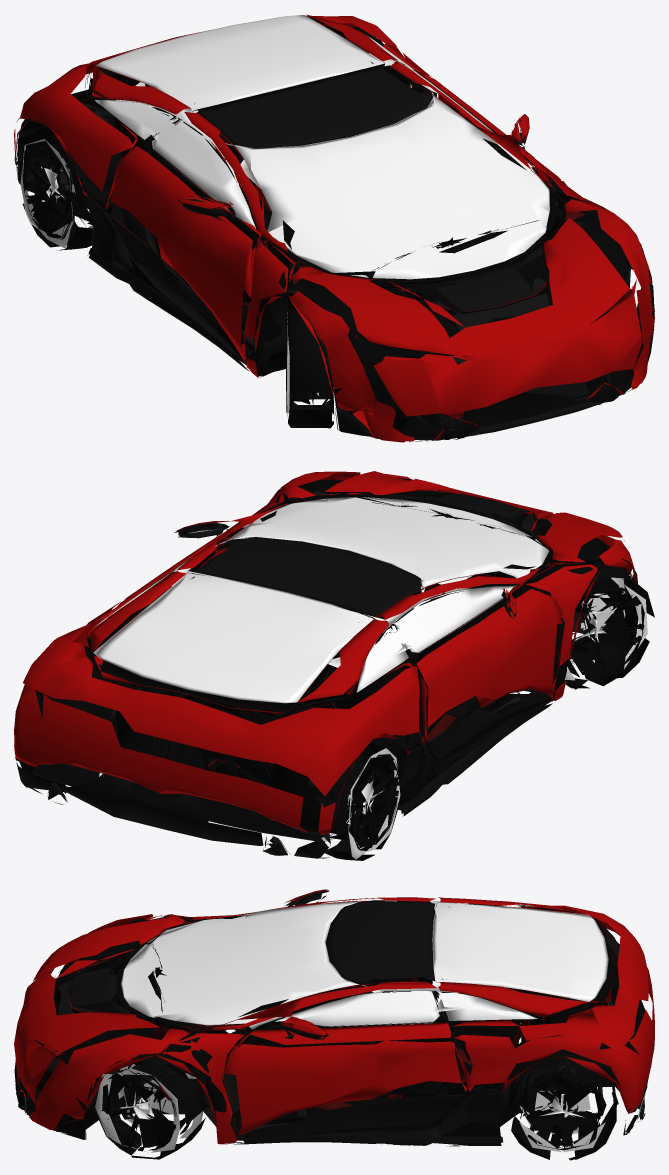
The model's file is U_CarConcept_LOD2.obj.
3 renders of one model, top to bottom at view 1: azimuth 30°, elevation 25°; view 2: azimuth 150°, elevation 25°; view 3: azimuth 270°, elevation 25°, orthographic. The views are drawn at different scales.
Parts seen in each view (by area): view 1: U_CarConcept_Body_m10, U_CarConcept_Body_m1, U_CarConcept_Body_m9, U_CarConcept_Body_m2, U_CarConcept_Body_m0, U_CarConcept_Body_m21, U_CarConcept_Body_m3, U_CarConcept_Wheel_FR_Tyre_m18, U_CarConcept_Wheel_RR_m20, U_CarConcept_Wheel_RR_Tyre_m18, U_CarConcept_Wheel_RR_Tyre_m17, U_CarConcept_Wheel_FR_m20; view 2: U_CarConcept_Body_m10, U_CarConcept_Body_m1, U_CarConcept_Body_m9, U_CarConcept_Body_m2, U_CarConcept_Wheel_FR_m20, U_CarConcept_Body_m3, U_CarConcept_Body_m21, U_CarConcept_Wheel_RR_m20, U_CarConcept_Body_m0, U_CarConcept_Wheel_RR_Tyre_m18, U_CarConcept_Wheel_FR_Tyre_m18, U_CarConcept_Wheel_RR_Tyre_m17 (+3 smaller); view 3: U_CarConcept_Body_m10, U_CarConcept_Body_m1, U_CarConcept_Body_m9, U_CarConcept_Body_m2, U_CarConcept_Body_m0, U_CarConcept_Wheel_RL_m20, U_CarConcept_Wheel_FL_m20, U_CarConcept_Body_m3, U_CarConcept_Body_m21, U_CarConcept_Wheel_RL_Tyre_m18, U_CarConcept_Wheel_FL_Tyre_m18, U_CarConcept_Wheel_FL_Tyre_m17 (+4 smaller).
Part boxes in pixels (bbox=[...]): U_CarConcept_Body_m10: bbox=[14, 14, 654, 442]; U_CarConcept_Body_m1: bbox=[95, 15, 549, 279]; U_CarConcept_Body_m9: bbox=[16, 63, 654, 436]; U_CarConcept_Body_m2: bbox=[17, 16, 654, 441]; U_CarConcept_Body_m0: bbox=[17, 86, 630, 440]; U_CarConcept_Body_m21: bbox=[87, 174, 590, 374]; U_CarConcept_Body_m3: bbox=[16, 26, 548, 319]; U_CarConcept_Wheel_FR_Tyre_m18: bbox=[288, 295, 333, 428]; U_CarConcept_Wheel_RR_m20: bbox=[22, 139, 92, 239]; U_CarConcept_Wheel_RR_Tyre_m18: bbox=[18, 124, 92, 250]; U_CarConcept_Wheel_RR_Tyre_m17: bbox=[20, 139, 92, 248]; U_CarConcept_Wheel_FR_m20: bbox=[286, 311, 333, 414]; U_CarConcept_Body_m10: bbox=[14, 471, 637, 834]; U_CarConcept_Body_m1: bbox=[93, 497, 548, 703]; U_CarConcept_Body_m9: bbox=[15, 490, 638, 858]; U_CarConcept_Body_m2: bbox=[33, 479, 637, 855]; U_CarConcept_Wheel_FR_m20: bbox=[567, 577, 644, 679]; U_CarConcept_Body_m3: bbox=[84, 525, 531, 826]; U_CarConcept_Body_m21: bbox=[135, 489, 599, 813]; U_CarConcept_Wheel_RR_m20: bbox=[324, 754, 399, 850]; U_CarConcept_Body_m0: bbox=[33, 488, 627, 855]; U_CarConcept_Wheel_RR_Tyre_m18: bbox=[325, 738, 403, 860]; U_CarConcept_Wheel_FR_Tyre_m18: bbox=[564, 558, 654, 689]; U_CarConcept_Wheel_RR_Tyre_m17: bbox=[321, 748, 400, 859]; U_CarConcept_Body_m10: bbox=[14, 889, 654, 1144]; U_CarConcept_Body_m1: bbox=[121, 899, 608, 1029]; U_CarConcept_Body_m9: bbox=[14, 889, 654, 1146]; U_CarConcept_Body_m2: bbox=[15, 900, 647, 1139]; U_CarConcept_Body_m0: bbox=[22, 930, 647, 1137]; U_CarConcept_Wheel_RL_m20: bbox=[520, 1066, 606, 1150]; U_CarConcept_Wheel_FL_m20: bbox=[101, 1061, 190, 1151]; U_CarConcept_Body_m3: bbox=[112, 903, 637, 1118]; U_CarConcept_Body_m21: bbox=[163, 915, 500, 1142]; U_CarConcept_Wheel_RL_Tyre_m18: bbox=[507, 1052, 618, 1160]; U_CarConcept_Wheel_FL_Tyre_m18: bbox=[94, 1052, 205, 1159]; U_CarConcept_Wheel_FL_Tyre_m17: bbox=[95, 1064, 203, 1152].
Size of the model in its own units: 2.53 by 1.14 by 4.34.
